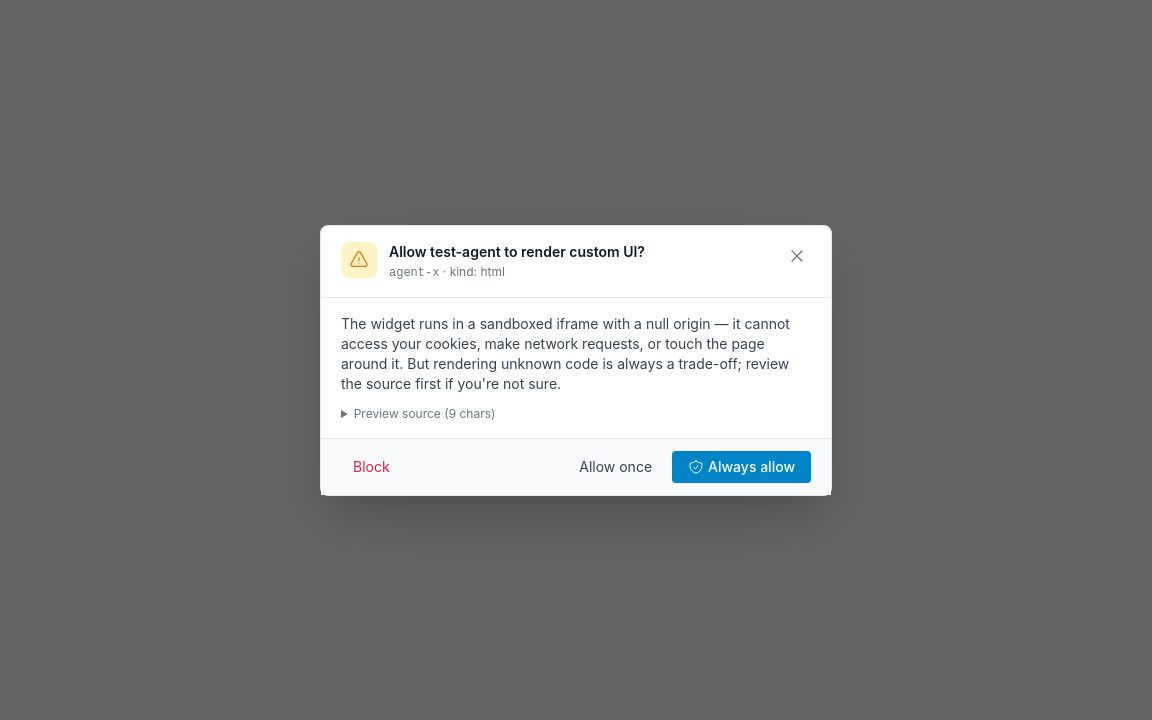
Test: WidgetRenderer › Block from the modal → blocked placeholder, persisted
expect the text "Allow test-agent to render custom UI?" is shown: met, box [389,242,645,260]
What coordinates should you click on to do the following:
click the button "Block"
I would click on:
 (371, 466)
Its box is [341,450,402,482].
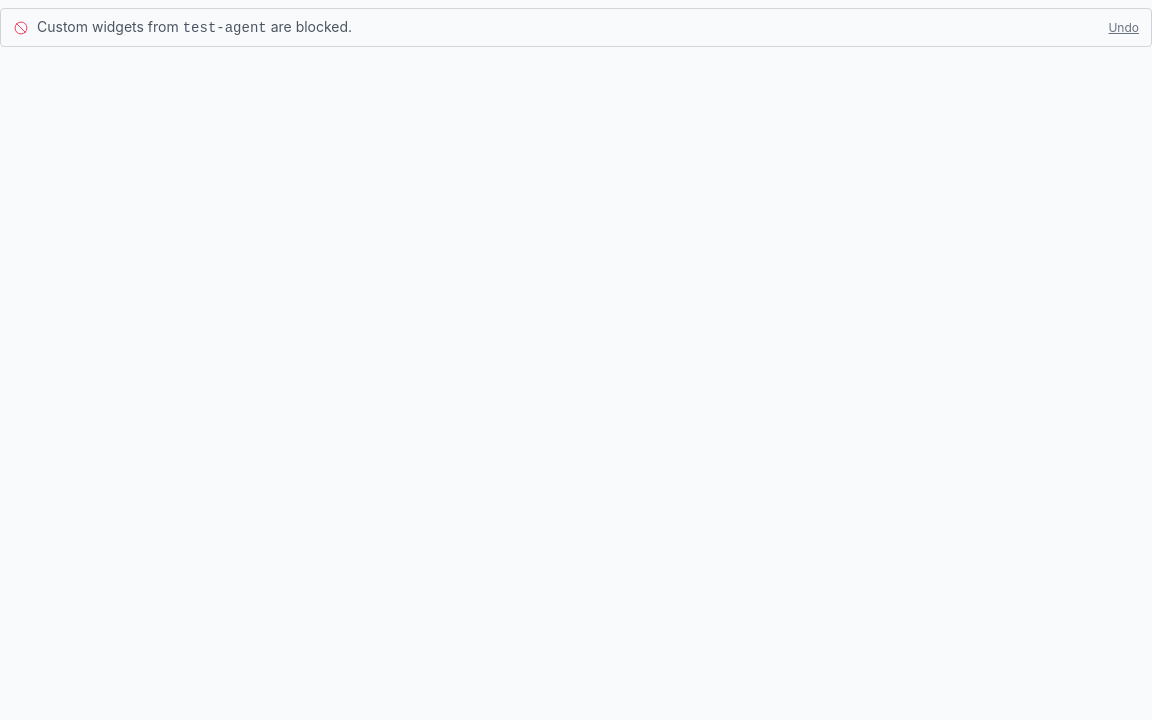
expect the text "Custom widgets from test-agent are blocked." is shown: met, box [37,17,352,38]
